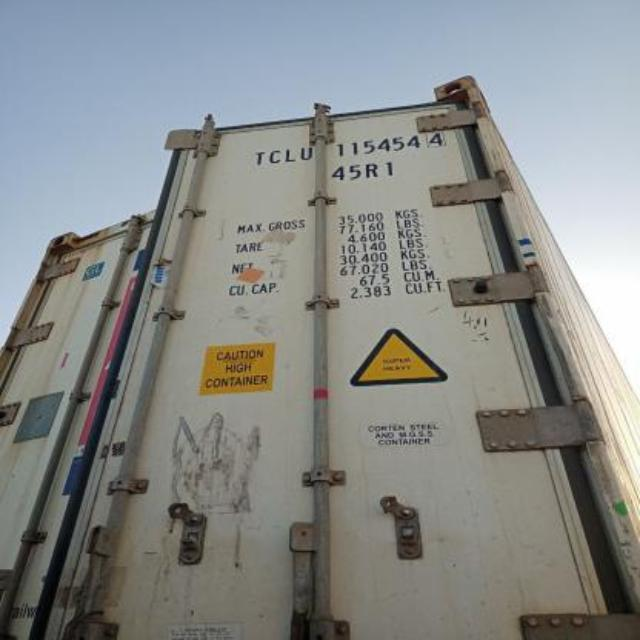1: (350, 141, 360, 157), (336, 142, 344, 158)
4: (376, 138, 392, 152), (427, 134, 445, 146), (405, 136, 421, 148)
5: (390, 136, 406, 152), (362, 140, 376, 156)
C: (268, 150, 282, 164)
L: (282, 147, 298, 163)
T: (254, 150, 266, 166)
U: (298, 146, 312, 162)
